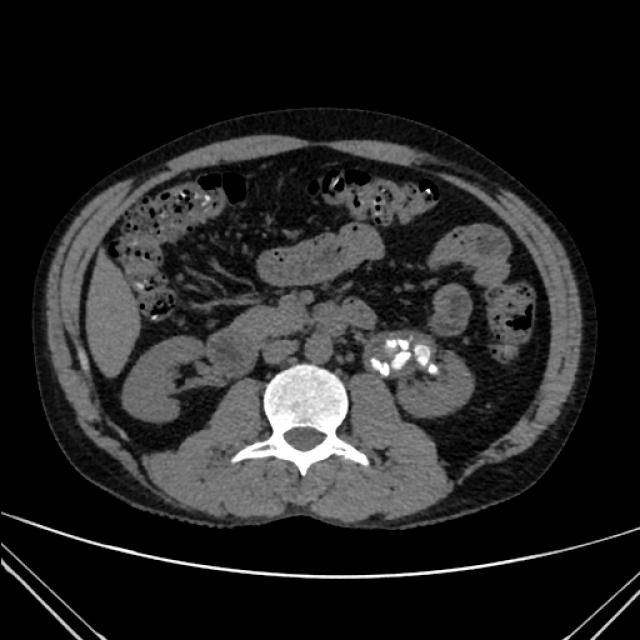kidneystone: (391, 351, 411, 370), (372, 358, 389, 377), (418, 345, 430, 366), (428, 364, 439, 374), (390, 341, 396, 346), (399, 340, 406, 344)
